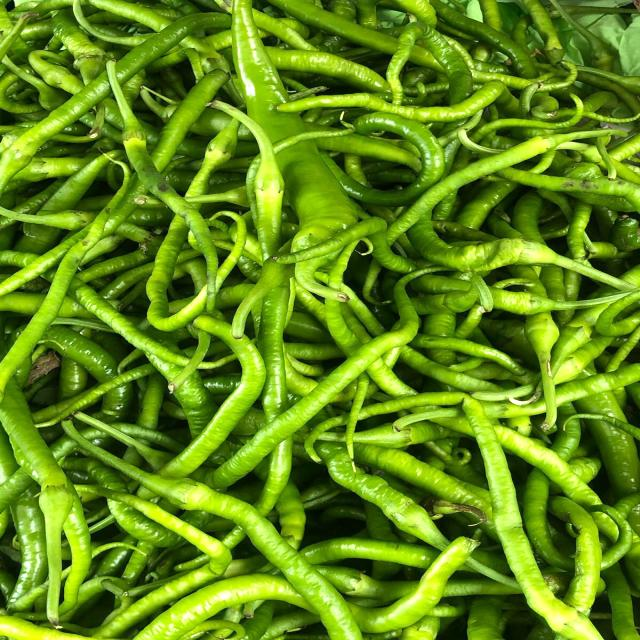green pepper: (77, 422, 371, 640), (212, 0, 391, 302)
